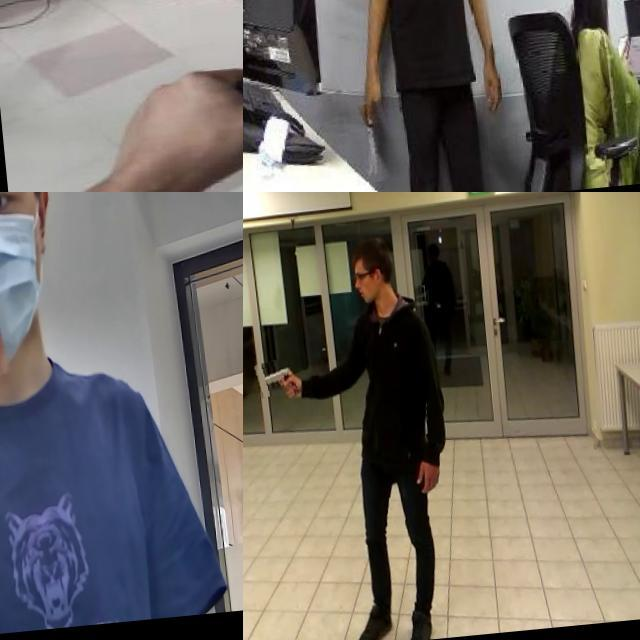-: (348, 105, 386, 187)
gun-knife-thesis - v11 Yolov5 augmented: (0, 192, 44, 392), (248, 363, 289, 402)
